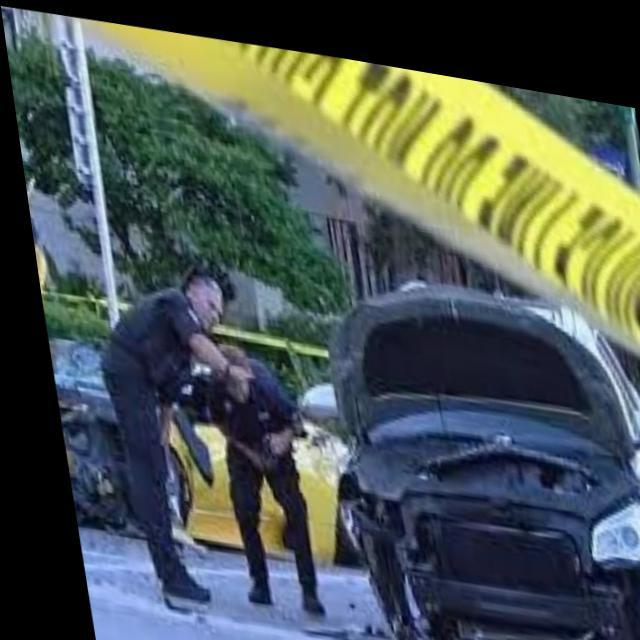crash: (334, 417, 640, 640)
